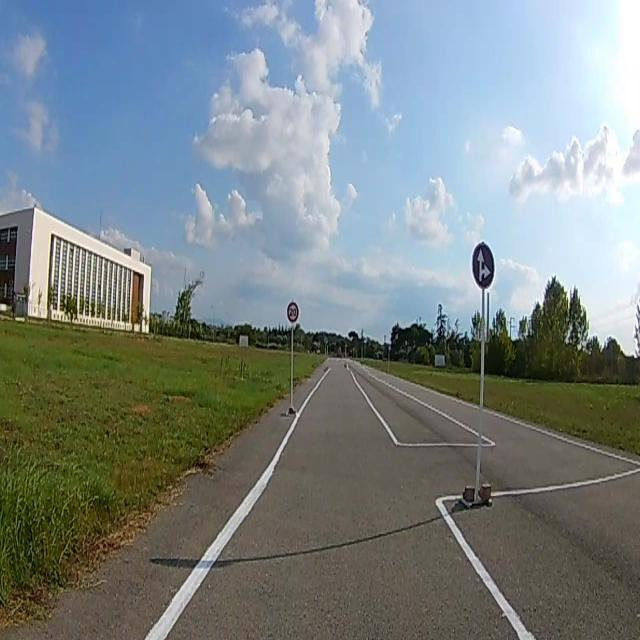20: (286, 300, 299, 322)
ilerisag: (472, 243, 494, 289)
